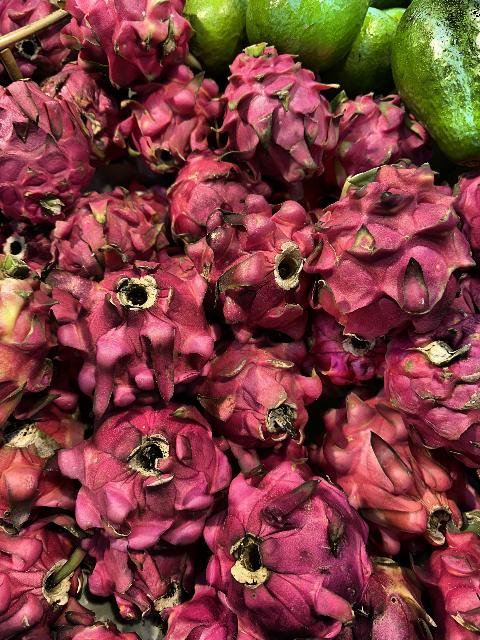buah-naga-belum-matang: (0, 244, 58, 434), (357, 554, 433, 640)
buah-naga-matang: (320, 383, 476, 565), (204, 468, 370, 636), (310, 168, 470, 326), (39, 254, 218, 394), (71, 404, 229, 544), (200, 202, 319, 338), (219, 46, 335, 182), (376, 321, 480, 445), (0, 76, 94, 212), (215, 334, 315, 452), (0, 524, 94, 640), (120, 68, 224, 164), (63, 0, 192, 76), (86, 522, 197, 606), (50, 187, 162, 265), (167, 143, 265, 227), (333, 88, 425, 168), (424, 522, 480, 640)
